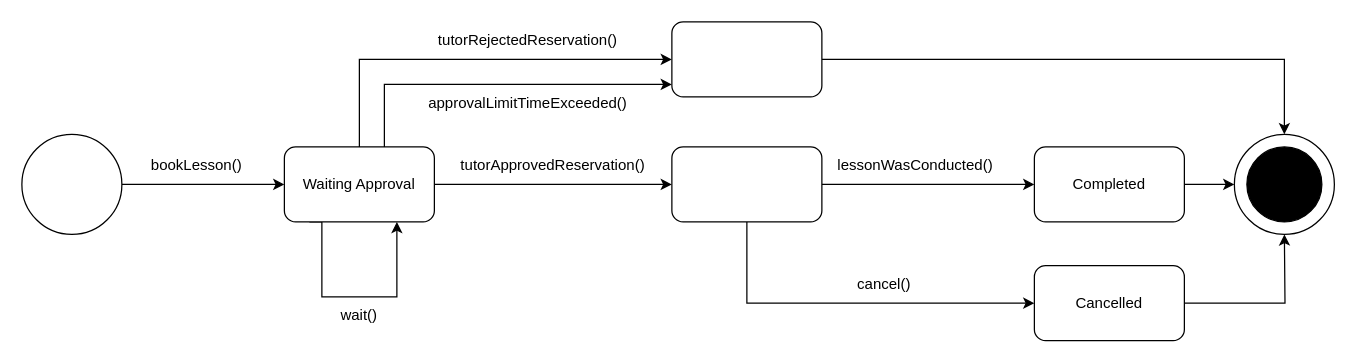
This 1356x363 diagram has some shape labels left out. The shapes that lost their labels are listed below. From the top down, each one's centre as x and y in pixels, then its label:
At (x=746, y=59): "Rejected".
At (x=746, y=184): "Approved".
